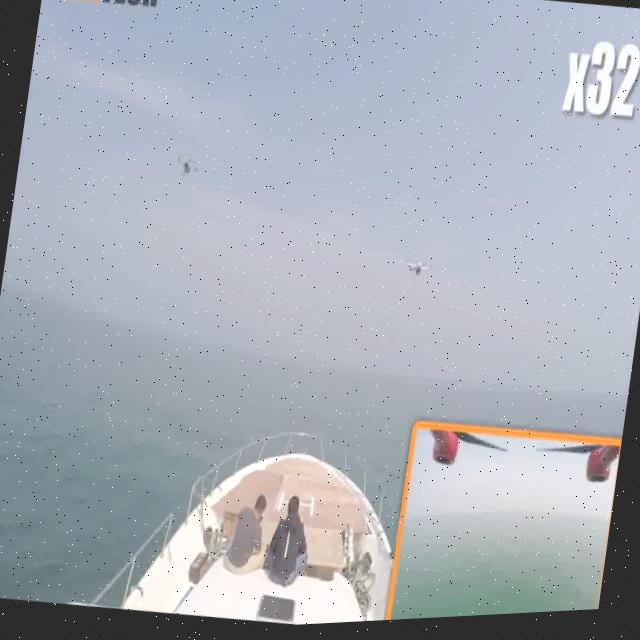drone: (168, 142, 206, 189), (401, 245, 436, 294)
